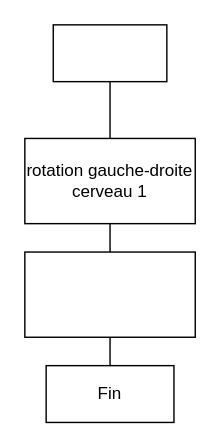
The diagram is 220 pixels wide and 447 high, and some of its shapes have lost their labels. The centre of each missing label's shape, as x and y in pixels:
"rotation gauche-droite cerveau 2" goes at point 109,294.
"start" goes at point 109,52.
